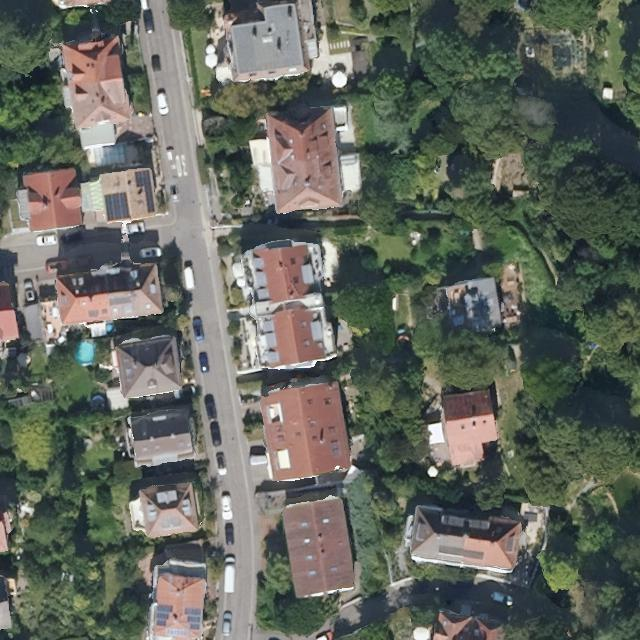PV: (131, 168, 158, 217), (101, 189, 133, 225), (152, 600, 176, 630), (182, 605, 205, 633)
